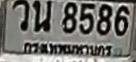5: (79, 2, 94, 33)
6: (114, 5, 128, 35)
8: (96, 3, 111, 34), (62, 1, 76, 32)
A25: (32, 0, 51, 31)
A37: (12, 0, 29, 30)
BKK: (22, 40, 113, 57)
